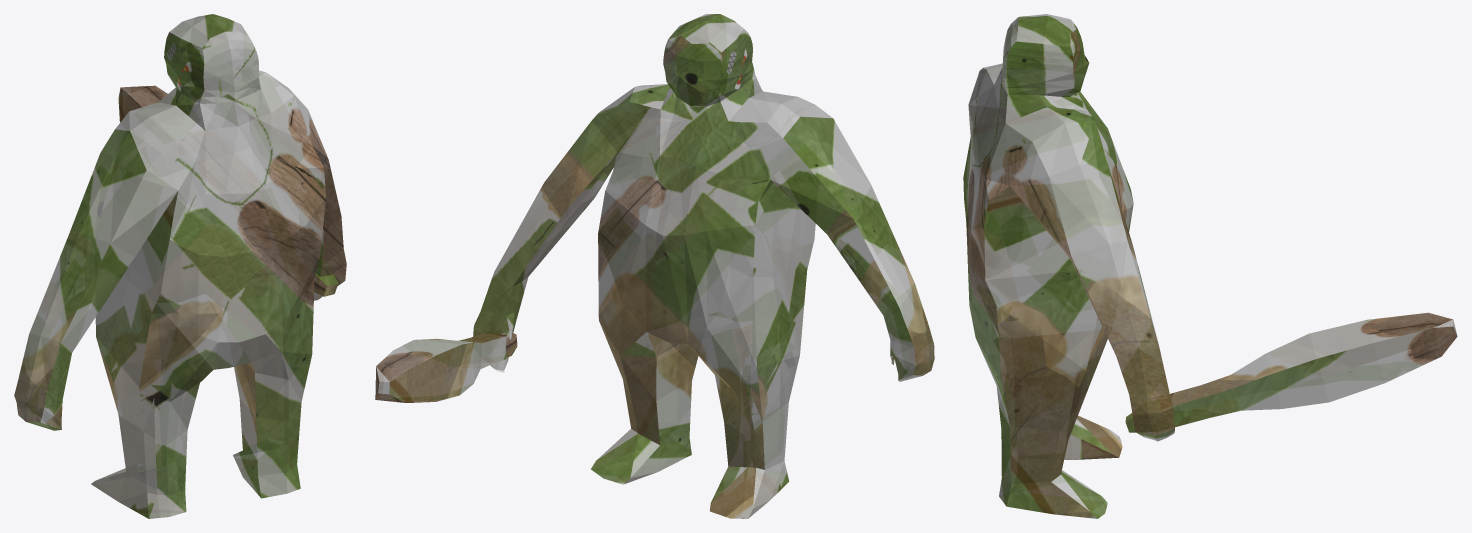
File: Enemigo225.obj
3 views of the same model, side by side, from view 1: azimuth 30°, elevation 25°; view 2: azimuth 150°, elevation 25°; view 3: azimuth 270°, elevation 25° (orthographic). The views are drawn at different scales.
Parts seen in each view (by area): view 1: Cube; view 2: Cube; view 3: Cube.
Boxes of the visible parts, left/top/right/bottom form: Cube: left=14, top=14, right=346, bottom=518; Cube: left=375, top=14, right=934, bottom=518; Cube: left=963, top=14, right=1457, bottom=518.
Bounding box in the file's own units: 2.33 × 2.71 × 2.62.
1 material, 1 textured.
